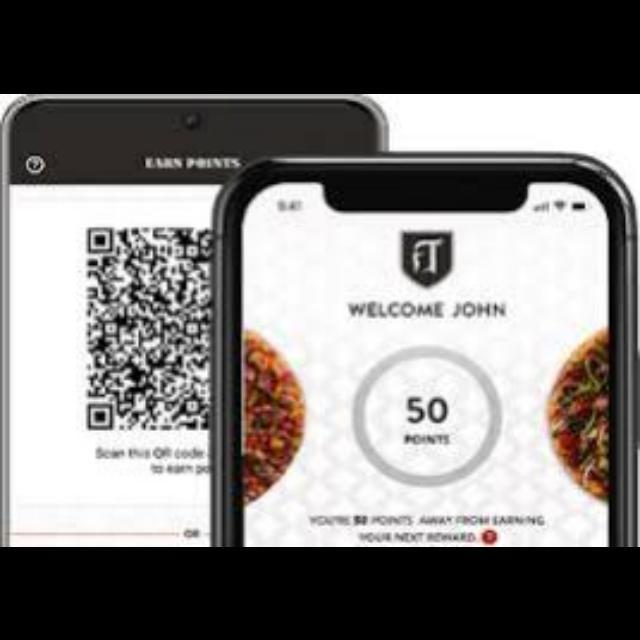Phone: (8, 98, 384, 546), (212, 160, 628, 546)
